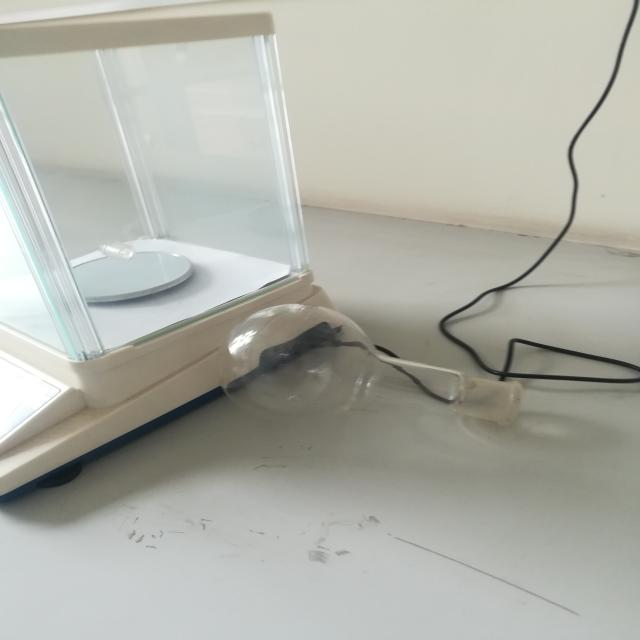Round_Bottom_Flask_Borosilicate_Glass_1_Neck: (185, 258, 530, 454)
